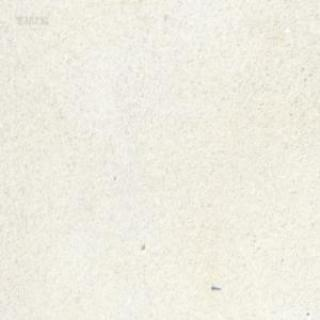Nailtrack_idkeyframe: (210, 283, 220, 290)
